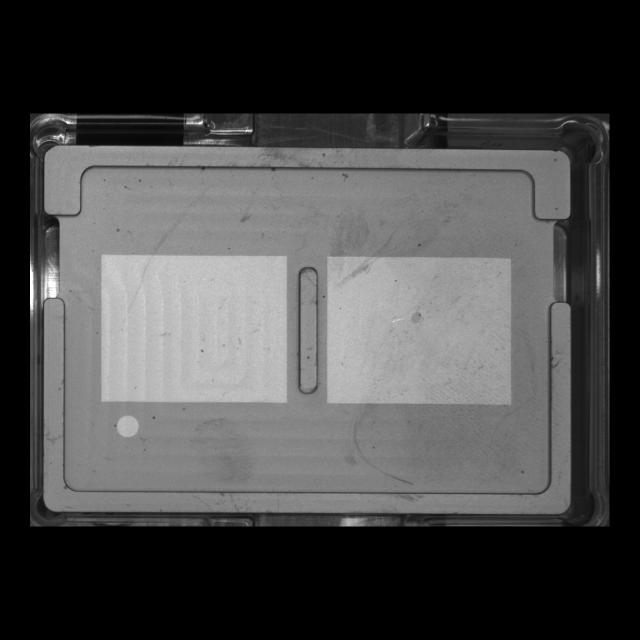door: (36, 135, 588, 236)
point: (112, 410, 145, 443)
